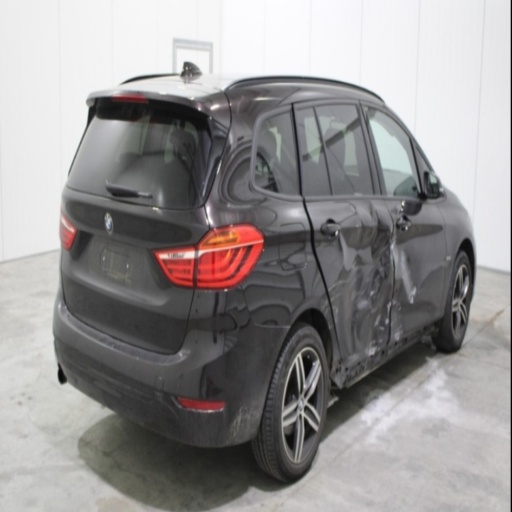dent: (320, 198, 443, 365)
scratch: (373, 301, 391, 331), (393, 298, 404, 343), (328, 280, 350, 295), (409, 285, 417, 307), (332, 306, 339, 324), (369, 339, 378, 353), (330, 292, 341, 302), (321, 300, 328, 312), (324, 307, 331, 318), (369, 288, 376, 298), (328, 322, 334, 330)
